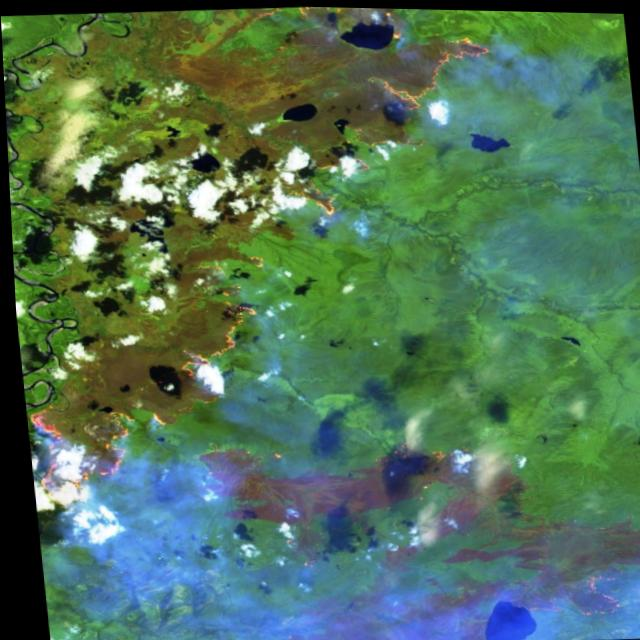fire: (348, 19, 505, 156), (26, 378, 179, 515), (158, 229, 285, 381), (366, 434, 468, 507), (300, 125, 397, 182), (273, 174, 350, 229)
